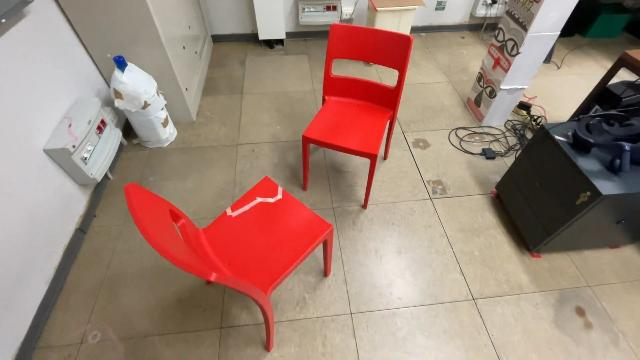Chair: (122, 173, 338, 354), (300, 17, 416, 212)
